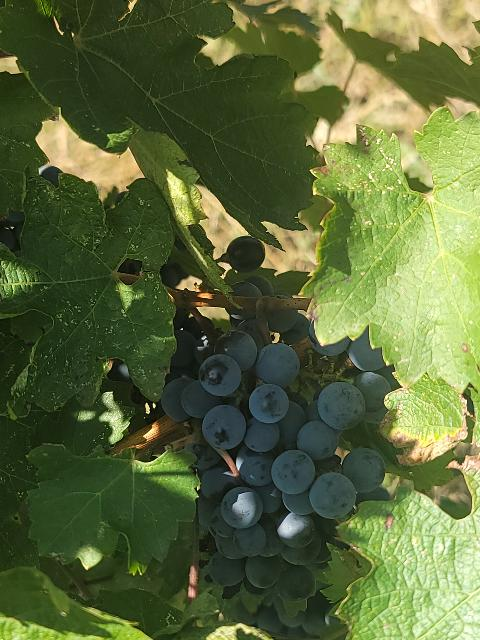grapes: (162, 331, 390, 590)
